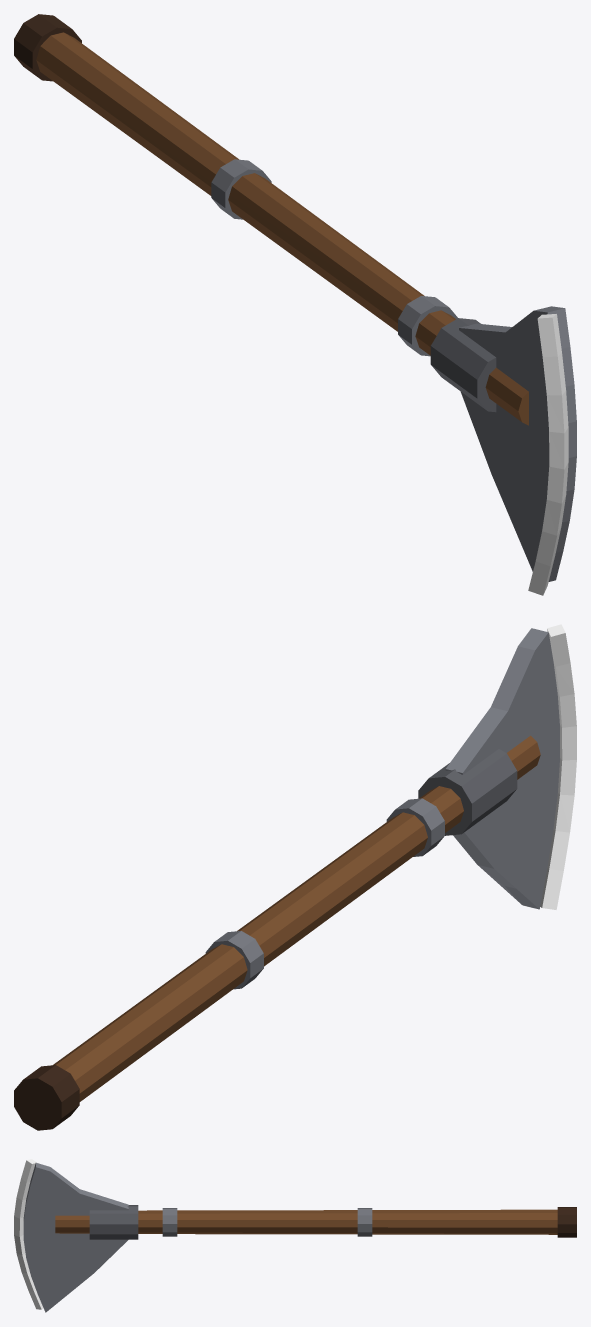
File: two-hand-axe.obj
3 renders of one model, top to bottom at view 1: azimuth 30°, elevation 25°; view 2: azimuth 150°, elevation 25°; view 3: azimuth 270°, elevation 25°, orthographic. The views are drawn at different scales.
Visible parts, largest first — view 1: Weapon_1, Weapon_5, Weapon_6, Weapon_4, Weapon_3, Weapon_2; view 2: Weapon_1, Weapon_5, Weapon_6, Weapon_4, Weapon_2, Weapon_3; view 3: Weapon_1, Weapon_5, Weapon_4, Weapon_6, Weapon_3, Weapon_2.
Part boxes in pixels (box(x1,y1,x2,y2)): Weapon_1: box(36, 32, 528, 425); Weapon_5: box(459, 306, 576, 581); Weapon_6: box(528, 314, 568, 595); Weapon_4: box(430, 318, 496, 412); Weapon_3: box(211, 159, 457, 356); Weapon_2: box(14, 14, 81, 81); Weapon_1: box(53, 735, 540, 1101); Weapon_5: box(445, 628, 559, 909); Weapon_6: box(540, 624, 576, 909); Weapon_4: box(418, 749, 517, 835); Weapon_2: box(14, 1065, 79, 1130); Weapon_3: box(205, 798, 444, 989); Weapon_1: box(55, 1209, 557, 1234); Weapon_5: box(23, 1162, 128, 1312); Weapon_4: box(89, 1205, 138, 1239); Weapon_6: box(14, 1159, 43, 1309); Weapon_3: box(162, 1208, 372, 1236); Weapon_2: box(557, 1207, 576, 1237).
Size of the model in its own units: 0.0685 by 0.3374 by 1.15.
